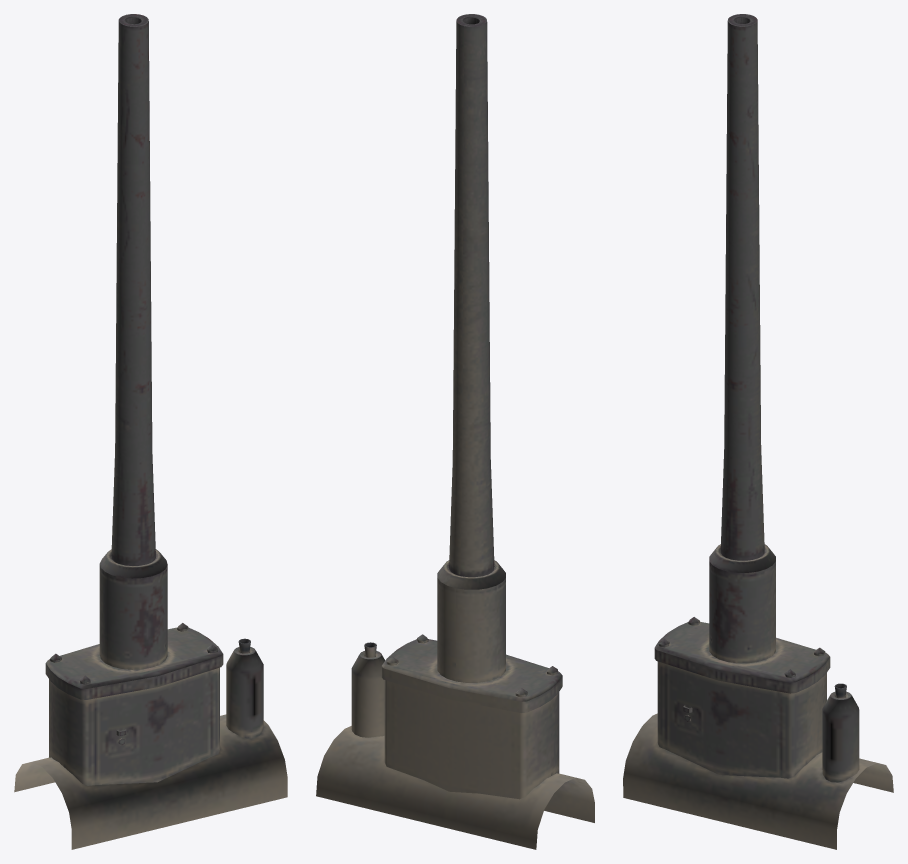
The model's file is Gun_01.glb.
The picture shows the model from 3 angles, left to right: view 1: azimuth 30°, elevation 25°; view 2: azimuth 150°, elevation 25°; view 3: azimuth 330°, elevation 25°; orthographic projection. The views are drawn at different scales.
Parts seen in each view (by area): view 1: set_0_group_0; view 2: set_0_group_0; view 3: set_0_group_0.
Part boxes in pixels (left/top/right/bottom): set_0_group_0: left=14, top=14, right=287, bottom=849; set_0_group_0: left=316, top=14, right=594, bottom=849; set_0_group_0: left=623, top=14, right=893, bottom=849.
Size of the model in its own units: 0.7 by 2.43 by 0.3226.
Materials: 1 (1 with a texture image).
